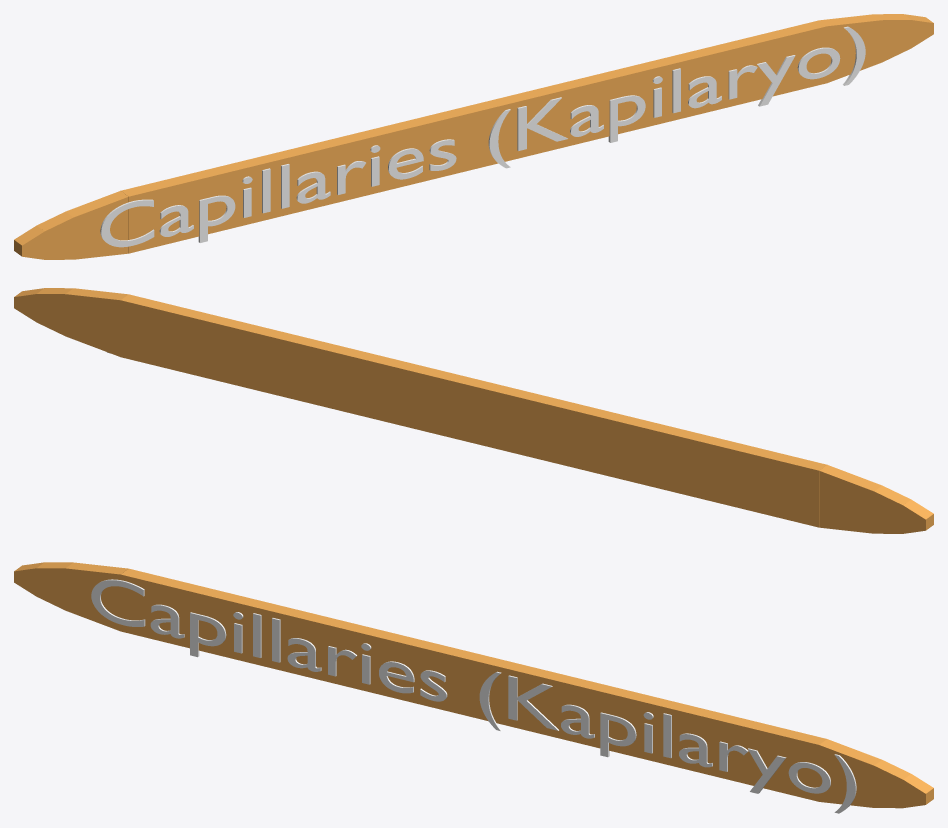
The model's file is txtCapillaries.fbx.
3 renders of one model, top to bottom at view 1: azimuth 30°, elevation 25°; view 2: azimuth 150°, elevation 25°; view 3: azimuth 330°, elevation 25°, orthographic.
Visible parts, largest first — view 1: TagContainer.087, Text.088; view 2: TagContainer.087; view 3: TagContainer.087, Text.088.
Boxes of the visible parts, x1,y1,x2,y2 form: TagContainer.087: [14, 14, 933, 259]; Text.088: [100, 26, 865, 247]; TagContainer.087: [14, 288, 933, 533]; TagContainer.087: [14, 562, 933, 808]; Text.088: [91, 579, 856, 813].
Bounding box in the file's own units: 692 × 45.66 × 11.92.
